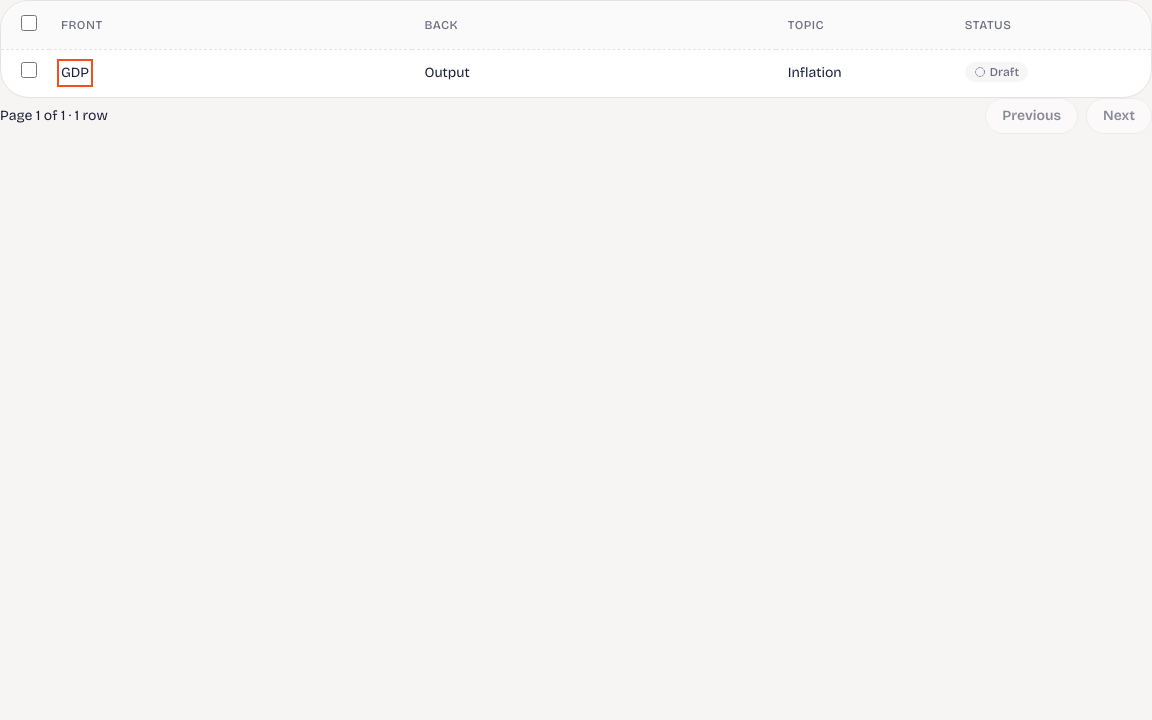
provides an edit button and stable names for selects and counted fields
This screenshot has width=1152, height=720.
Step 1. Click the button with aria-label "Edit GDP" → (75, 73), box [61, 63, 89, 83]
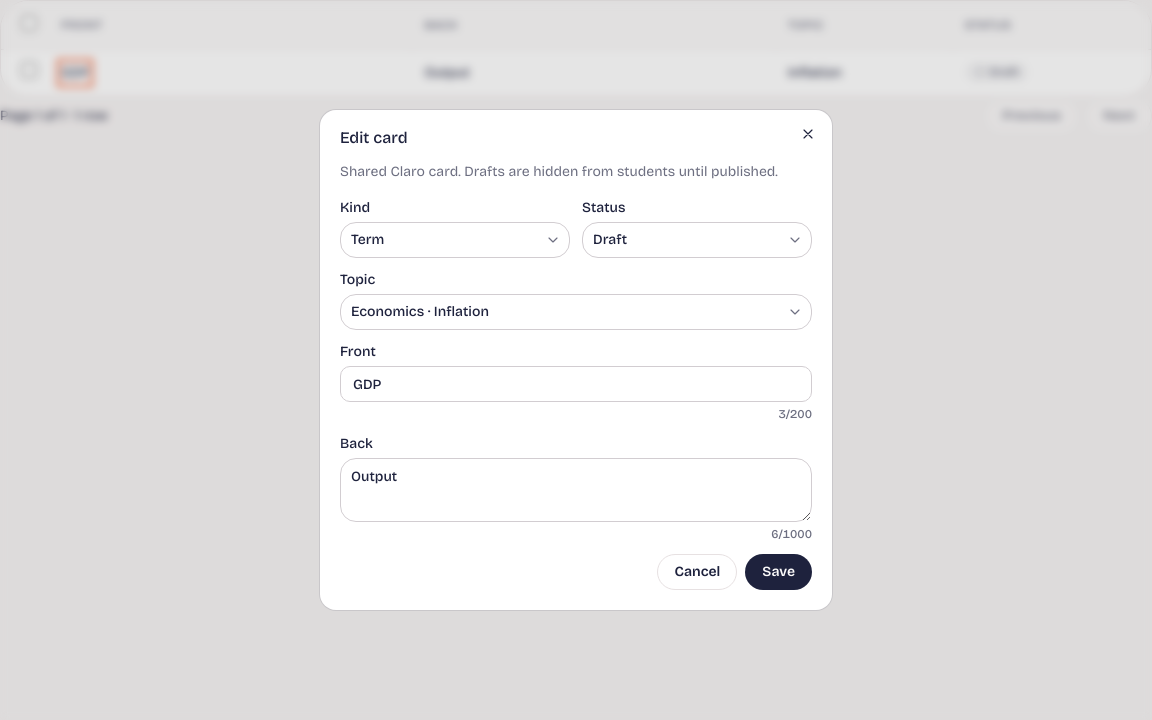
Check: the dropdown named "Kind" reads "Term", box [340, 222, 570, 258]
Check: the dropdown named "Topic" reads "Economics · Inflation", box [340, 294, 812, 330]
Check: the field labelled "Front" holds "GDP", box [340, 366, 812, 402]
Step 2. Click the dropdown named "Status" → (697, 240), box [582, 222, 812, 258]
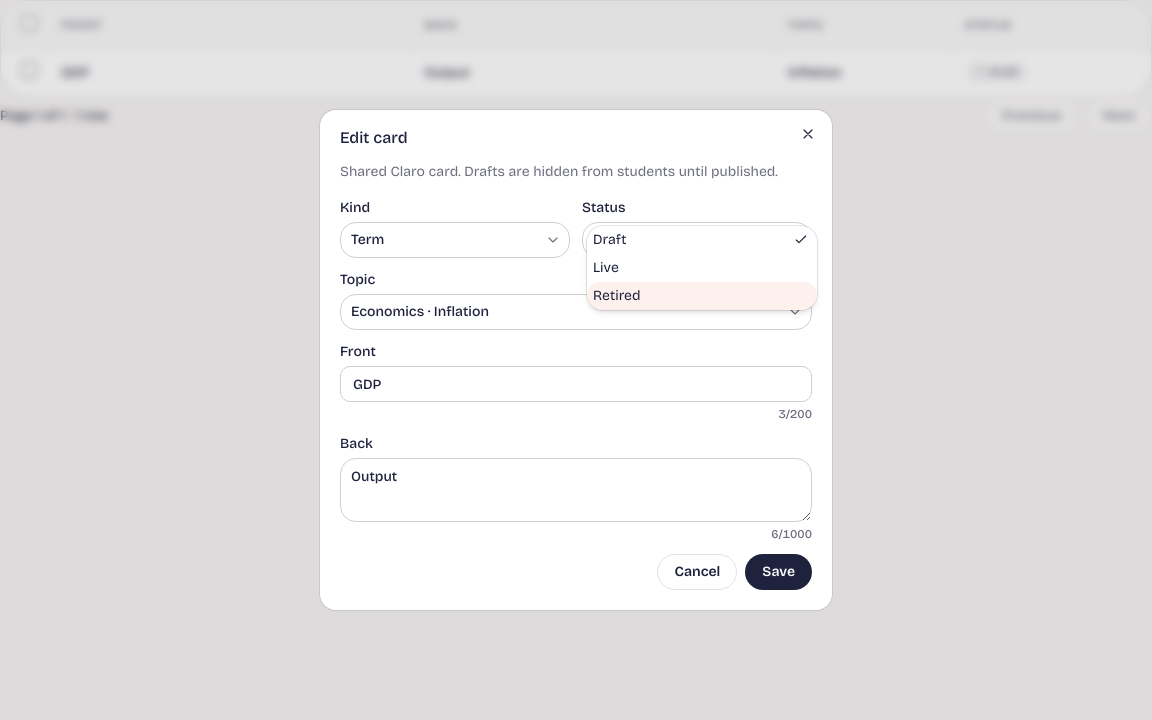
Step 3. Click the option "Retired" → (702, 296), box [587, 282, 817, 310]
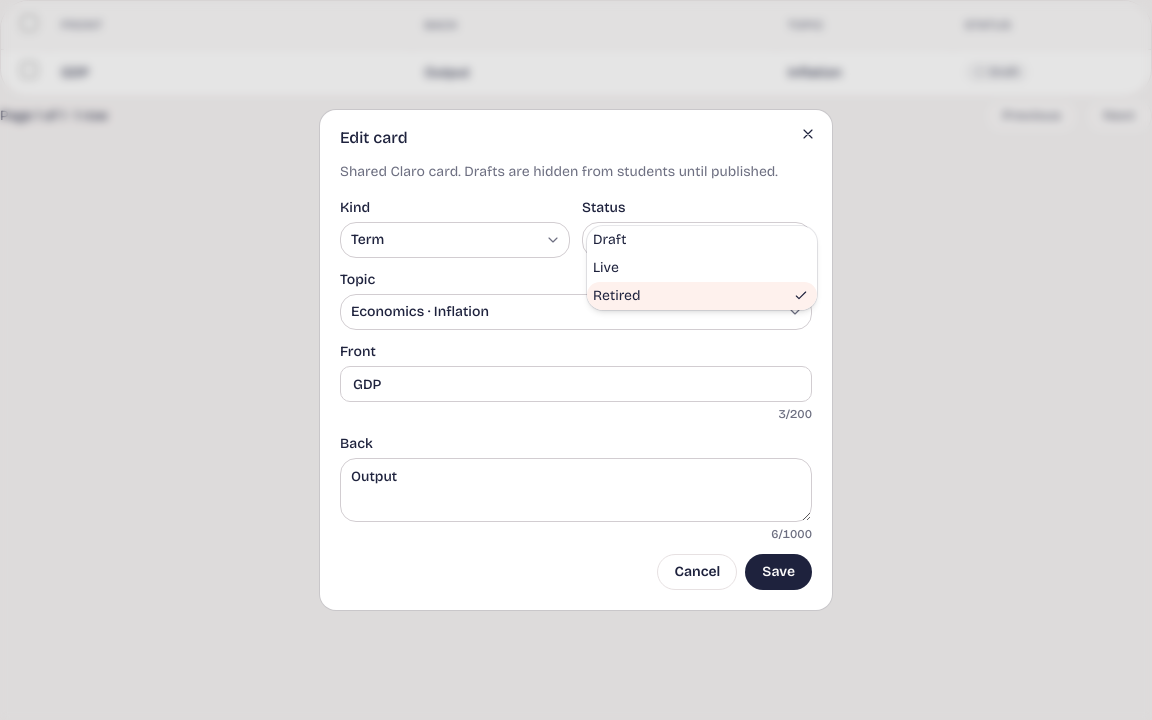
Step 4. Click the button "Save" → (779, 572), box [745, 554, 812, 590]
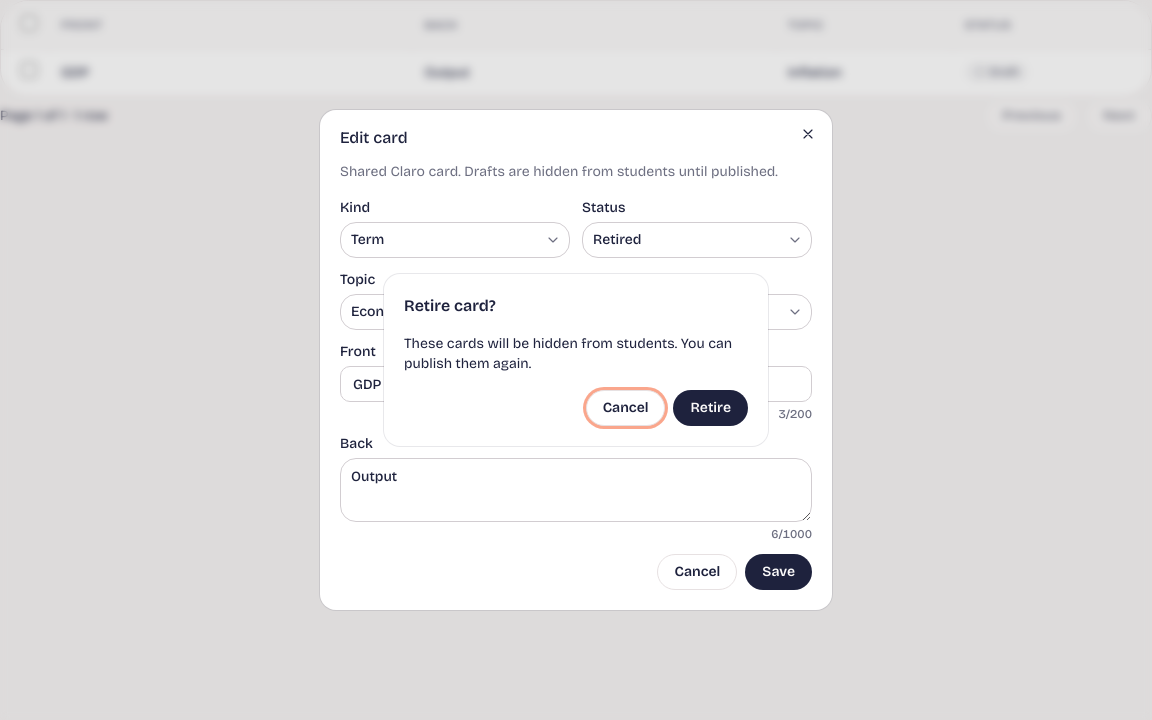
Check: the dialog that starts with "Retire" is shown, box [384, 274, 768, 446]
